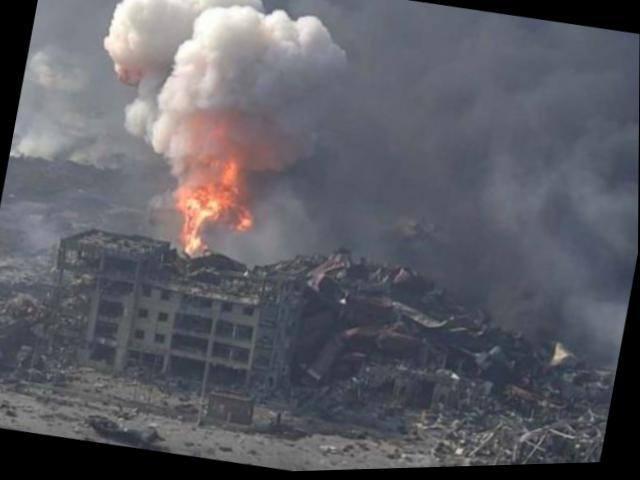fire: (183, 179, 235, 222), (180, 213, 208, 255), (221, 159, 244, 184), (237, 209, 255, 235)
